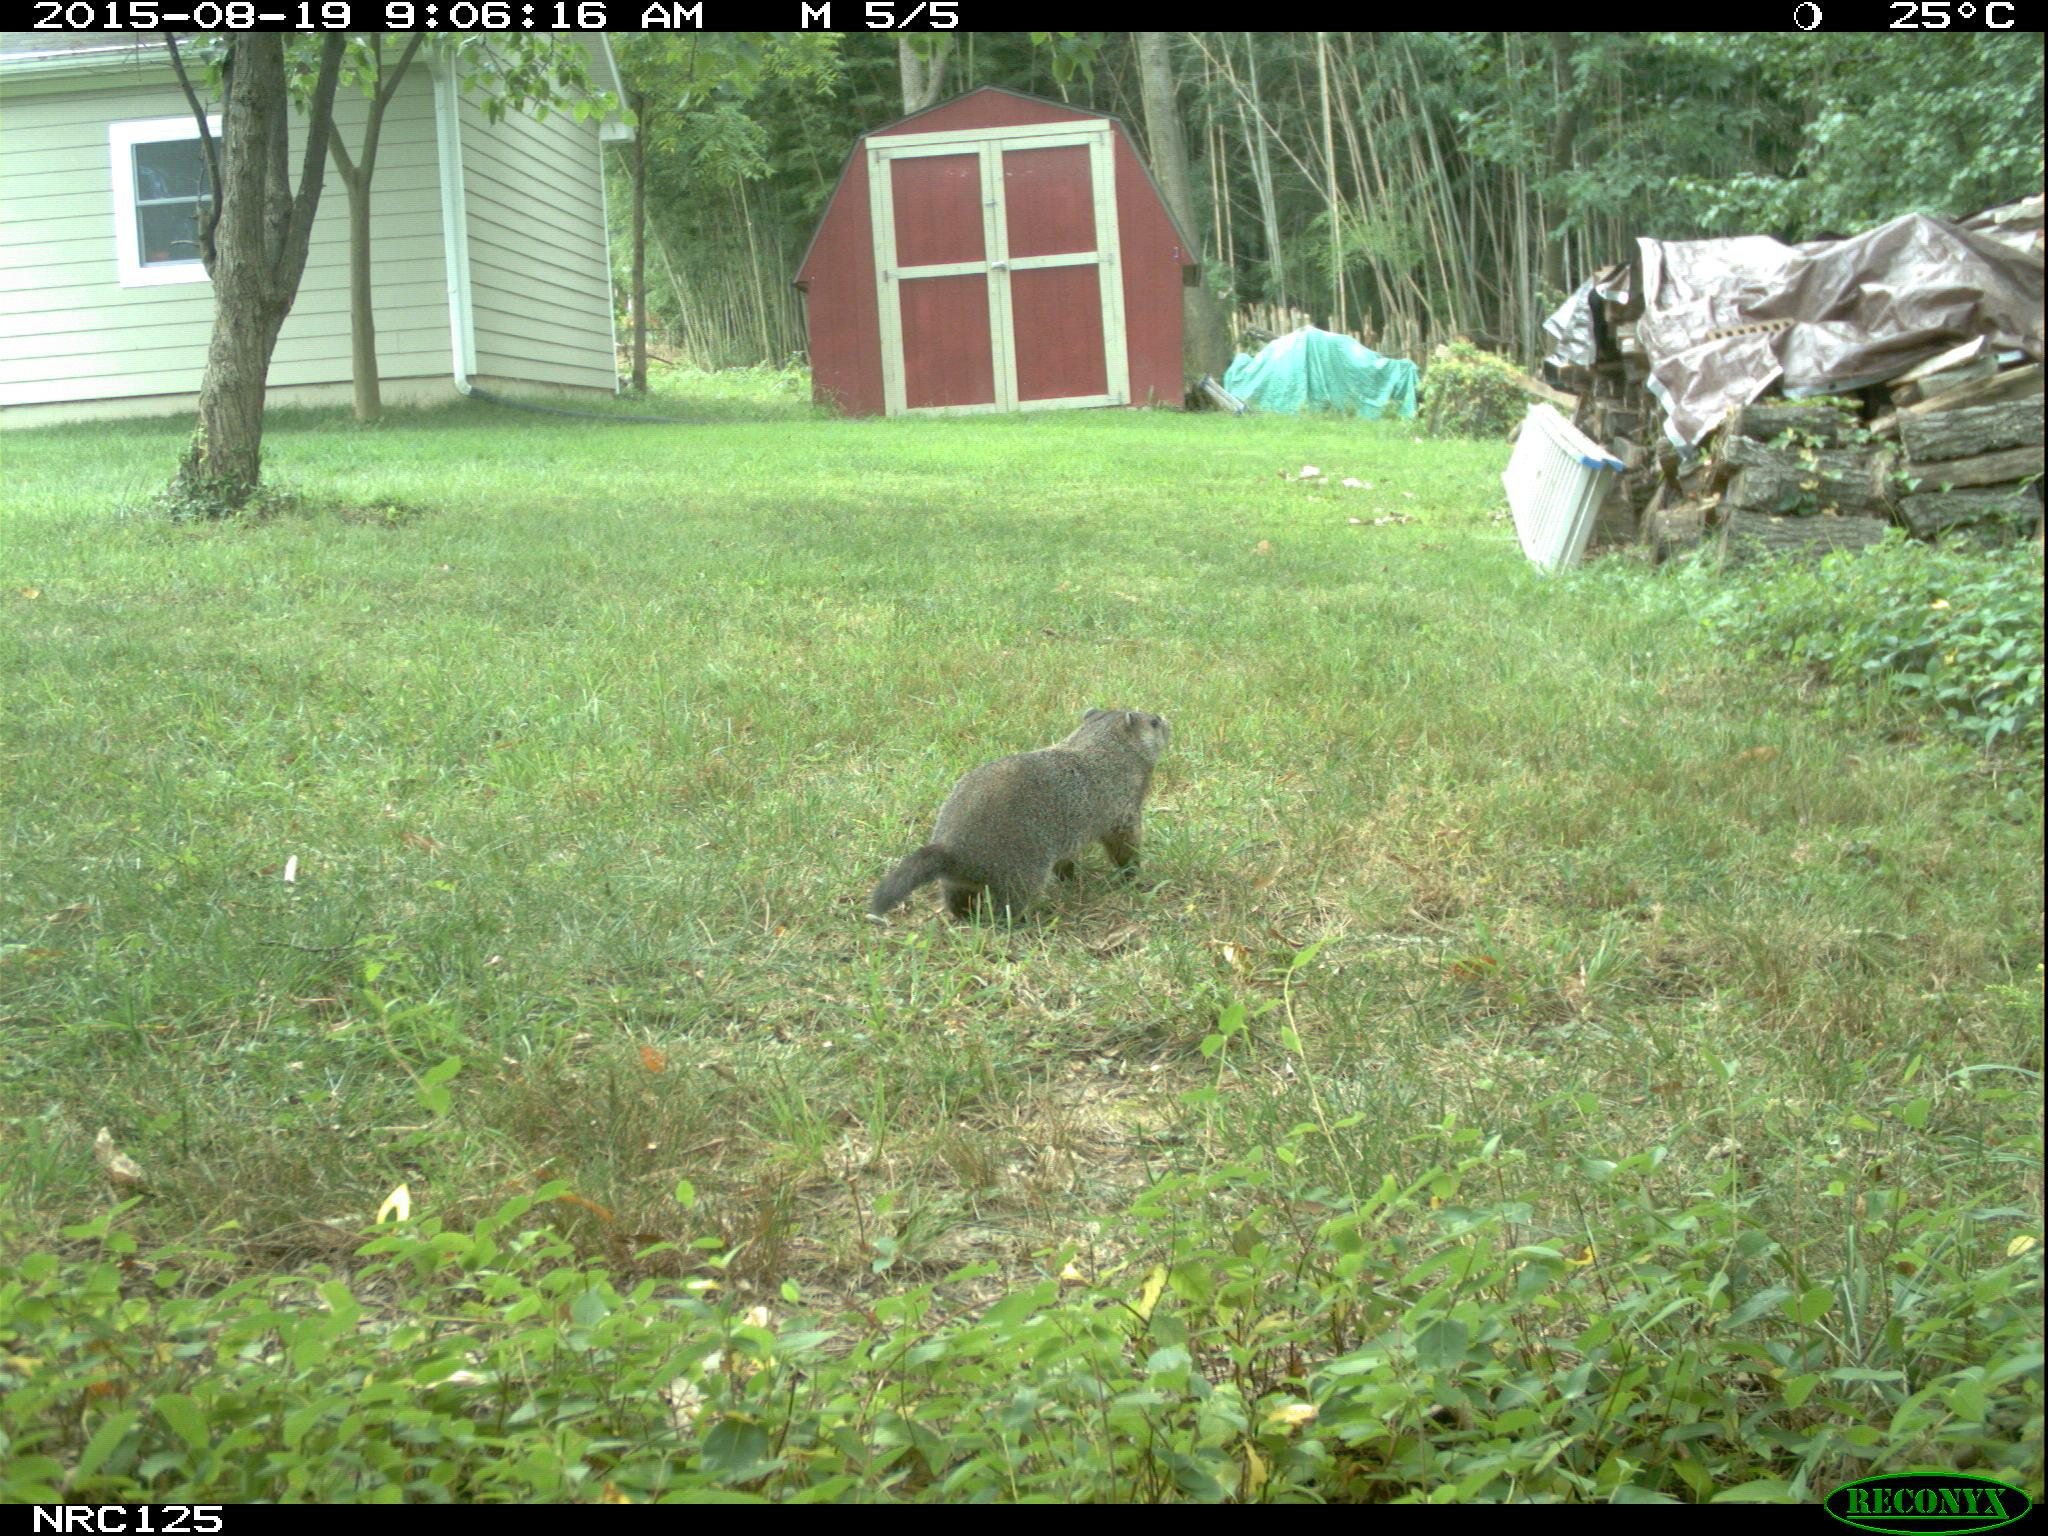Animal: (866, 703, 1174, 939)
